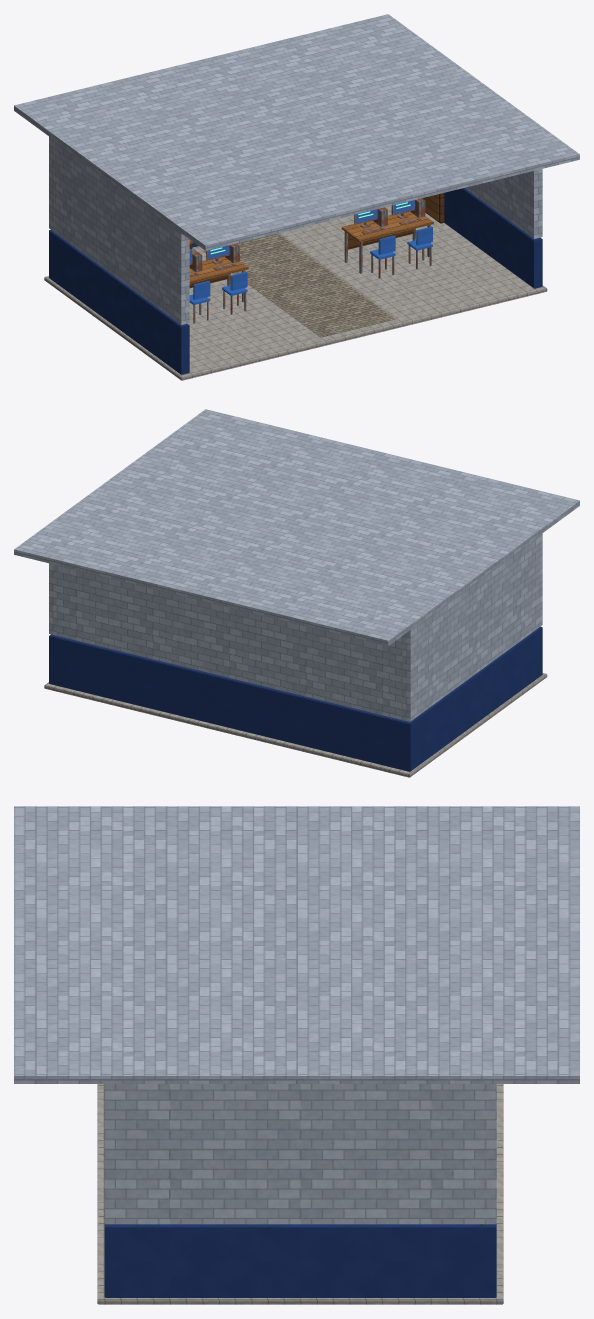
Rendered from kampus.glb.
3 views of the same model, one above another, from view 1: azimuth 30°, elevation 25°; view 2: azimuth 150°, elevation 25°; view 3: azimuth 270°, elevation 25° (orthographic). The views are drawn at different scales.
Parts seen in each view (by area): view 1: KP_Ceiling, KP_Floor, KP_SideWall_L_Top, KP_AisleStrip, KP_SideWall_L_Low, KP_SideWall_R_Low, KP_SideWall_R_Top, KP_LabR_Top, KP_LabL_Top; view 2: KP_Ceiling, KP_BackWall_Top, KP_BackWall_Low, KP_SideWall_L_Top, KP_SideWall_L_Low, KP_Floor, KP_SideWall_R_Top; view 3: KP_Ceiling, KP_SideWall_R_Top, KP_SideWall_R_Low, KP_Floor.
Boxes of the visible parts, x1,y1,x2,y2 form: KP_Ceiling: (14,14,579,250); KP_Floor: (44,205,547,380); KP_SideWall_L_Top: (49,136,189,324); KP_AisleStrip: (203,233,395,337); KP_SideWall_L_Low: (49,230,189,374); KP_SideWall_R_Low: (444,188,542,288); KP_SideWall_R_Top: (465,169,542,238); KP_LabR_Top: (341,211,433,242); KP_LabL_Top: (189,256,248,283); KP_Ceiling: (14,409,579,645); KP_BackWall_Top: (56,565,407,720); KP_BackWall_Low: (51,635,407,769); KP_SideWall_L_Top: (402,533,542,721); KP_SideWall_L_Low: (402,626,542,771); KP_Floor: (44,673,547,777); KP_SideWall_R_Top: (49,563,56,635); KP_Ceiling: (14,806,579,1083); KP_SideWall_R_Top: (104,1084,496,1224); KP_SideWall_R_Low: (104,1223,496,1297); KP_Floor: (97,1084,503,1304).
Size of the model in its own units: 8.8 by 3.53 by 7.8.
Materials: 21 (11 with a texture image).
